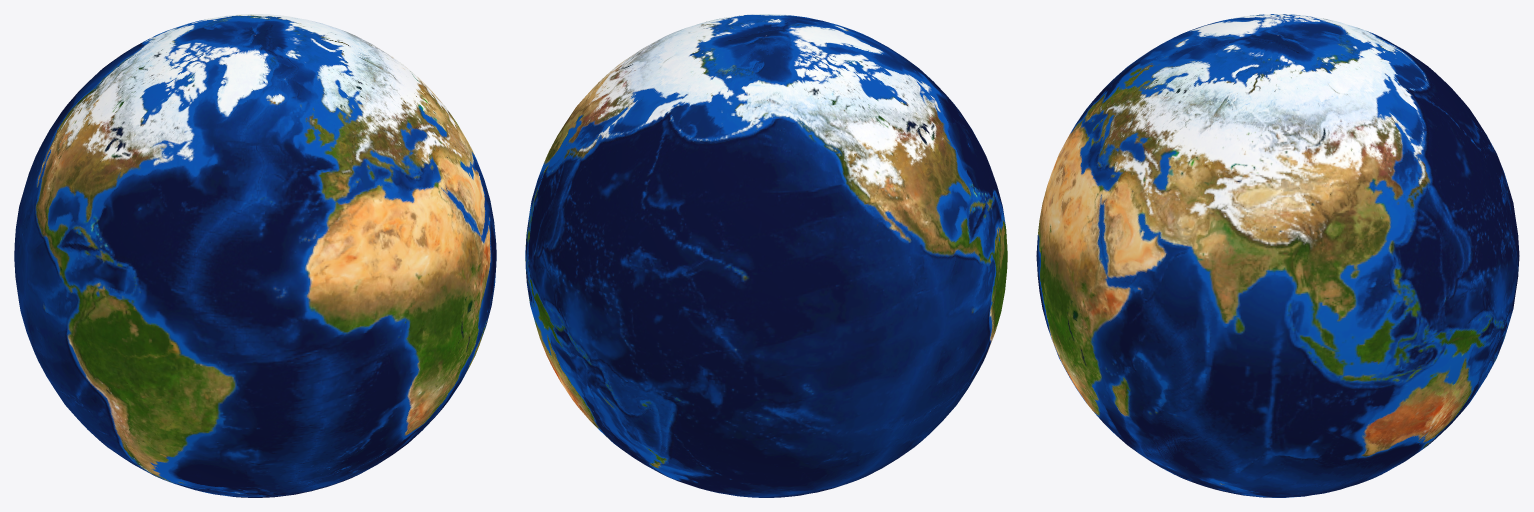
The model's file is earth(1).glb.
3 renders of one model, left to right at view 1: azimuth 30°, elevation 25°; view 2: azimuth 150°, elevation 25°; view 3: azimuth 270°, elevation 25°, orthographic.
Parts seen in each view (by area): view 1: Earth; view 2: Earth; view 3: Earth.
Boxes of the visible parts, x1,y1,x2,y2 form: Earth: [14, 14, 496, 497]; Earth: [525, 14, 1007, 497]; Earth: [1036, 14, 1519, 497].
Size of the model in its own units: 8484 by 8536 by 8484.
1 material, 1 textured.
